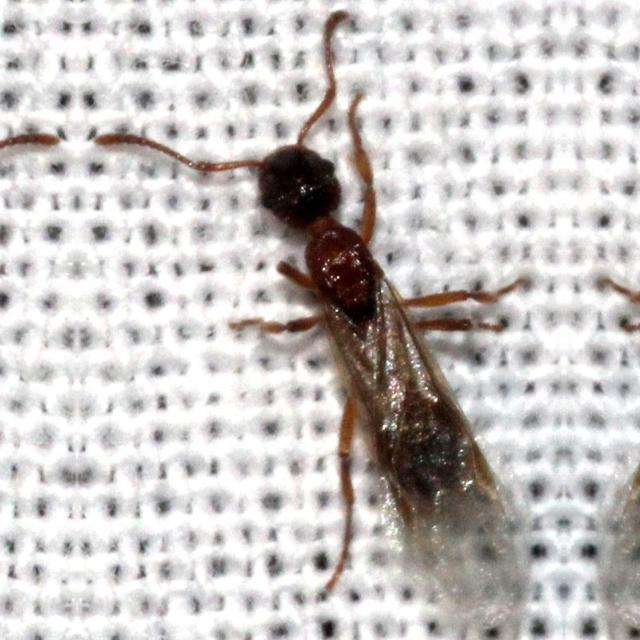Myrmica: (183, 52, 562, 612), (562, 51, 640, 612)
